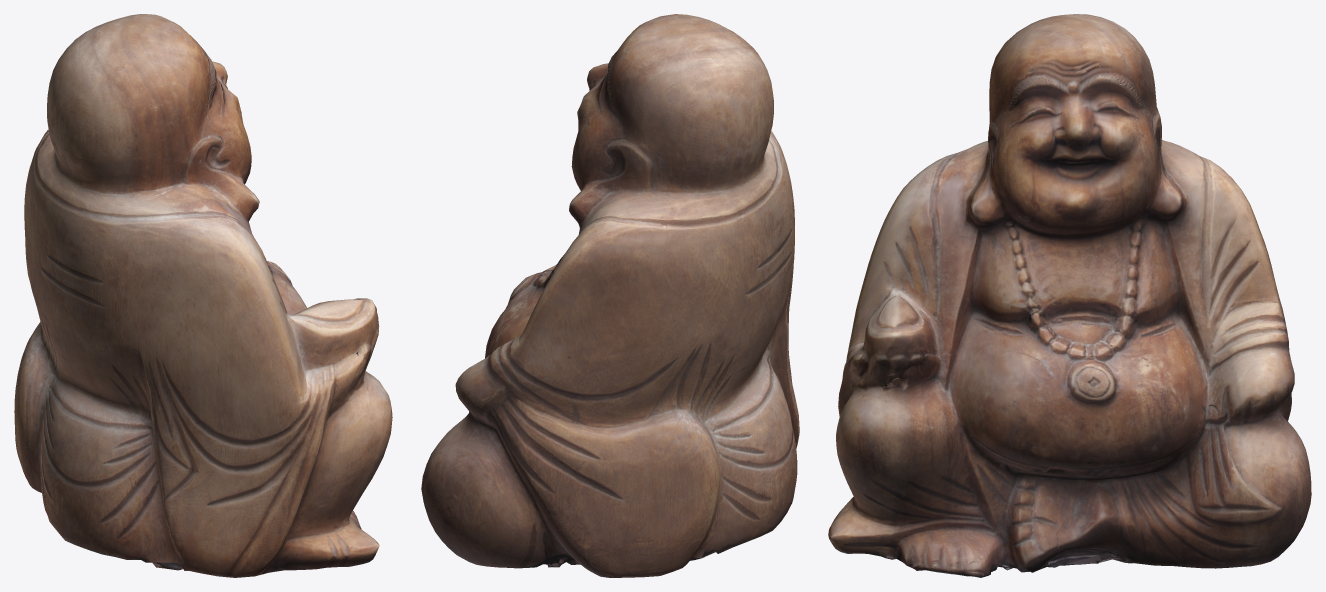
File: laughing_buddha_hotei.glb
3 views of the same model, side by side, from view 1: azimuth 30°, elevation 25°; view 2: azimuth 150°, elevation 25°; view 3: azimuth 270°, elevation 25° (orthographic).
Parts seen in each view (by area): view 1: Object_3; view 2: Object_3; view 3: Object_3.
Boxes of the visible parts, box(x1,y1,x2,y2) form: Object_3: box(14, 14, 392, 577); Object_3: box(421, 14, 799, 577); Object_3: box(828, 14, 1311, 577).
Size of the model in its own units: 1.24 by 2.31 by 2.09.
Materials: 1 (1 with a texture image).
